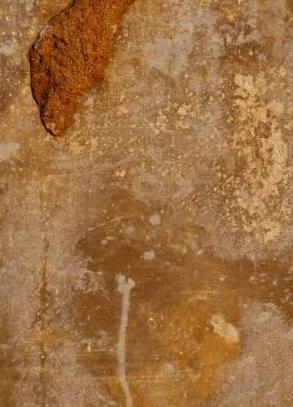Corrosion: (28, 1, 136, 137)
